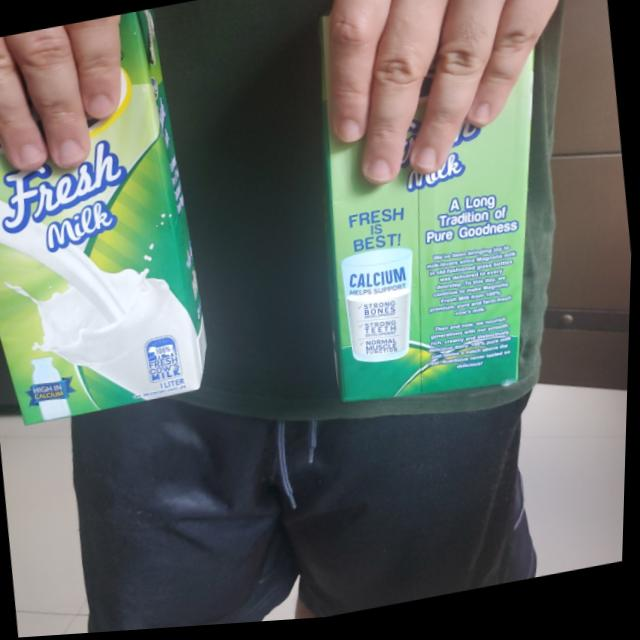milk: (286, 0, 584, 447), (0, 3, 224, 428)
